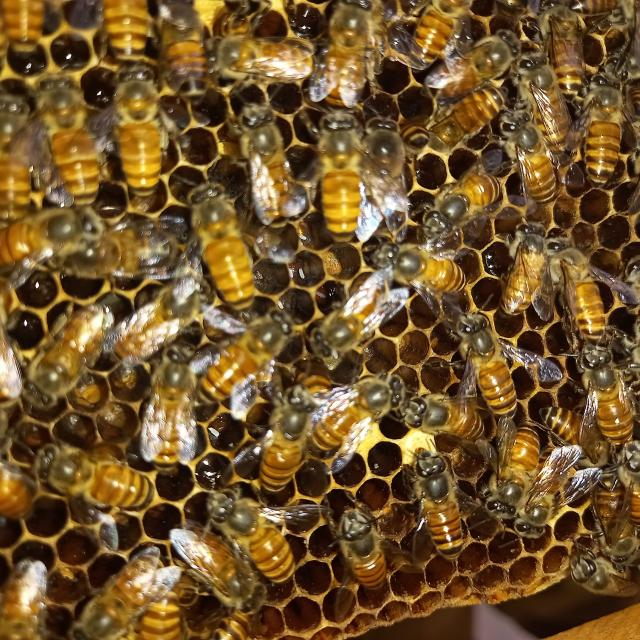honeybee: (36, 92, 160, 190), (30, 336, 163, 423), (233, 96, 319, 229), (137, 342, 218, 482), (47, 438, 163, 532), (323, 291, 462, 366), (226, 34, 348, 114), (340, 496, 417, 616), (537, 268, 637, 360), (410, 376, 520, 458), (197, 516, 274, 633), (304, 383, 417, 462), (84, 543, 175, 640), (118, 79, 186, 208), (225, 466, 308, 571), (409, 434, 479, 554), (370, 237, 471, 319), (573, 92, 640, 205), (417, 88, 507, 171), (124, 274, 229, 344), (513, 456, 597, 543), (23, 208, 118, 284), (340, 15, 402, 130), (196, 329, 332, 381), (458, 445, 530, 528), (496, 235, 560, 328), (22, 543, 82, 640), (186, 192, 240, 298), (483, 315, 539, 417), (520, 132, 573, 238), (0, 443, 58, 530), (430, 178, 520, 233), (398, 6, 466, 75), (15, 11, 79, 81), (590, 359, 640, 445), (577, 553, 640, 620), (436, 23, 492, 88), (520, 56, 560, 146), (107, 17, 160, 56)
